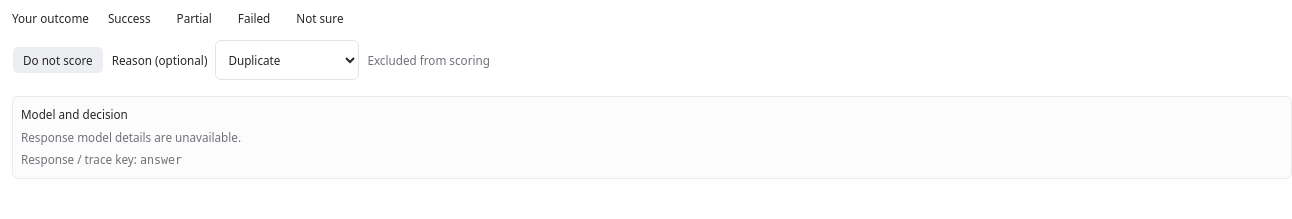
Scenario: keeps the previous confirmed setting after a failed mutation
The image size is (1292, 219).
Click the button "Do not score": (58, 60) x1=12 y1=46 x2=104 y2=74
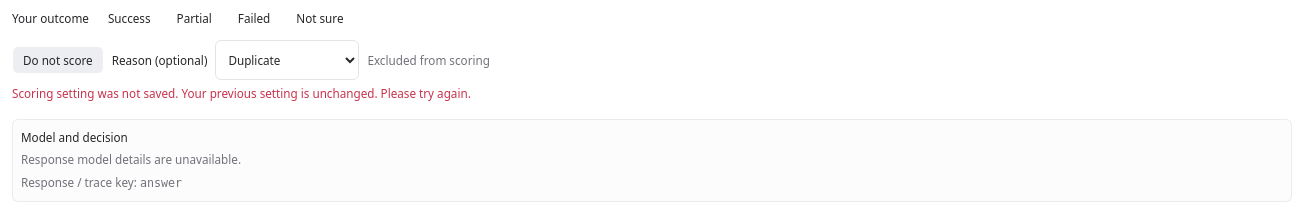
Expected: the message is shown, x1=12 y1=85 x2=471 y2=101
